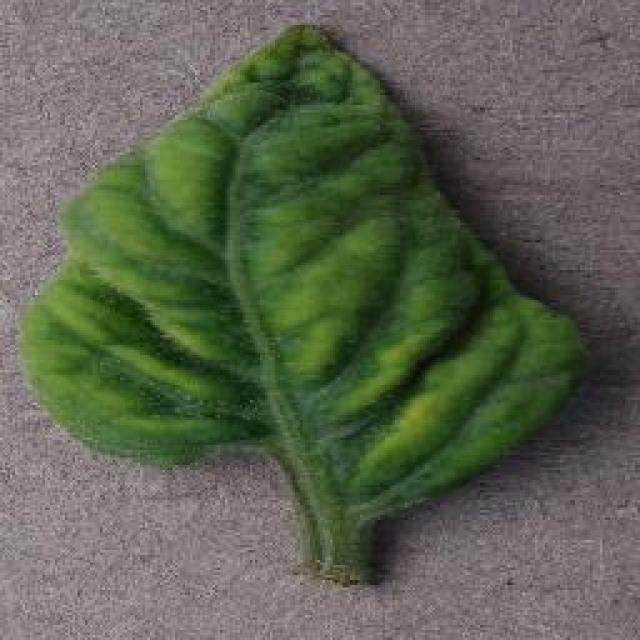Tom_Yellow_Leaf_Curl_Virus: (128, 25, 498, 484)
